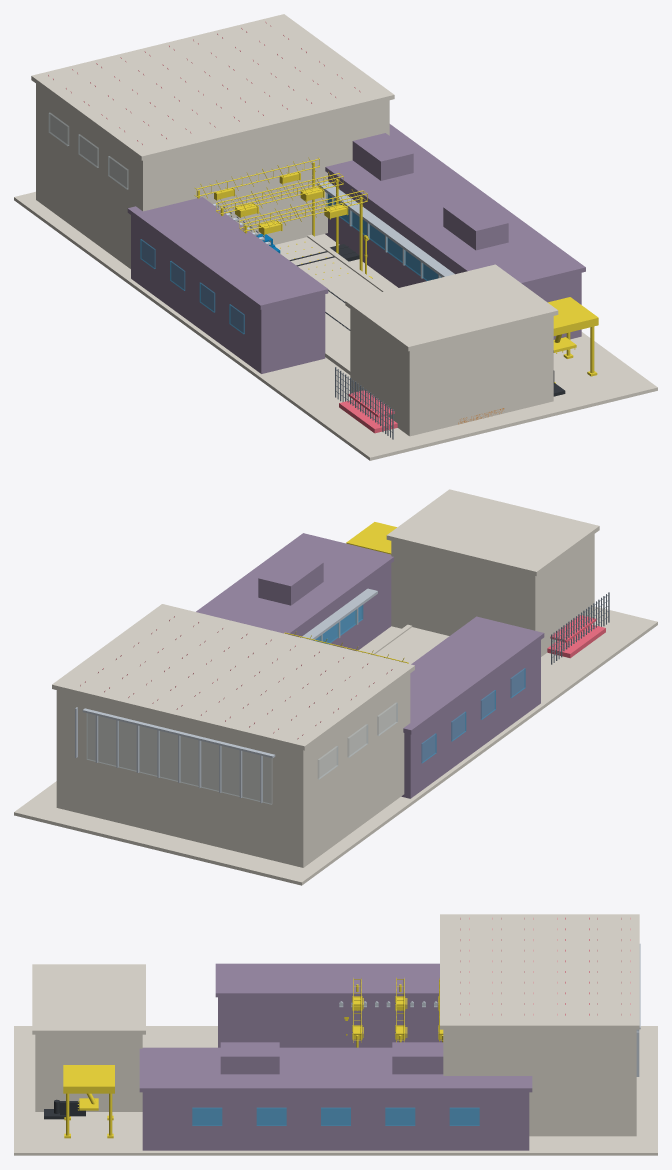
The model's file is hq_13_safety_l5.glb.
The picture shows the model from 3 angles, top to bottom: view 1: azimuth 30°, elevation 25°; view 2: azimuth 150°, elevation 25°; view 3: azimuth 270°, elevation 25°; orthographic projection. The views are drawn at different scales.
Parts seen in each view (by area): view 1: GEO_Safety_Crash_Arena_Hall_Shell, GEO_Safety_Rollover_Pit_Shell, GEO_Safety_Telemetry_Office_Halls, GEO_Safety_Dummy_Lab_Shell, GEO_Safety_Foundation_Plinth, GEO_Safety_Crash_Runway_Hall, GEO_Safety_Photogrammetry_Lighting_Truss, GEO_Safety_Observation_Mullions, GEO_Safety_Roof_Crush_Press, GEO_Safety_Observation_Glass, GEO_Safety_Observation_Curtain_Glass, GEO_Safety_Rollover_Catch_Barriers (+2 smaller); view 2: GEO_Safety_Crash_Arena_Hall_Shell, GEO_Safety_Rollover_Pit_Shell, GEO_Safety_Dummy_Lab_Shell, GEO_Safety_Telemetry_Office_Halls, GEO_Safety_Foundation_Plinth, GEO_Safety_Observation_Curtain_Glass, GEO_Safety_Arena_Mullions, GEO_Safety_Crash_Runway_Hall, GEO_Safety_Dummy_Lab_Windows, GEO_Safety_Curb_Trip_Ramp, GEO_Safety_Rollover_Catch_Barriers, GEO_Safety_Observation_Mullions (+2 smaller); view 3: GEO_Safety_Crash_Arena_Hall_Shell, GEO_Safety_Telemetry_Office_Halls, GEO_Safety_Dummy_Lab_Shell, GEO_Safety_Foundation_Plinth, GEO_Safety_Rollover_Pit_Shell, GEO_Safety_Observation_Glass, GEO_Safety_Roof_Crush_Press, GEO_Safety_Photogrammetry_Lighting_Truss, GEO_Safety_HPU_Hydraulic_Skid, GEO_Safety_Arena_Mullions.
Boxes of the visible parts, x1,y1,x2,y2 form: GEO_Safety_Crash_Arena_Hall_Shell: [31, 14, 394, 268]; GEO_Safety_Rollover_Pit_Shell: [345, 264, 558, 436]; GEO_Safety_Telemetry_Office_Halls: [325, 124, 585, 339]; GEO_Safety_Dummy_Lab_Shell: [127, 197, 328, 373]; GEO_Safety_Foundation_Plinth: [14, 191, 657, 460]; GEO_Safety_Crash_Runway_Hall: [275, 234, 537, 430]; GEO_Safety_Photogrammetry_Lighting_Truss: [194, 157, 367, 271]; GEO_Safety_Observation_Mullions: [317, 181, 454, 278]; GEO_Safety_Roof_Crush_Press: [548, 297, 598, 383]; GEO_Safety_Observation_Glass: [326, 193, 441, 280]; GEO_Safety_Observation_Curtain_Glass: [48, 112, 128, 189]; GEO_Safety_Rollover_Catch_Barriers: [335, 367, 393, 439]; GEO_Safety_Crash_Arena_Hall_Shell: [52, 604, 414, 867]; GEO_Safety_Rollover_Pit_Shell: [386, 489, 599, 656]; GEO_Safety_Dummy_Lab_Shell: [401, 616, 544, 798]; GEO_Safety_Telemetry_Office_Halls: [196, 533, 393, 651]; GEO_Safety_Foundation_Plinth: [14, 606, 657, 885]; GEO_Safety_Observation_Curtain_Glass: [86, 702, 397, 804]; GEO_Safety_Arena_Mullions: [75, 707, 275, 803]; GEO_Safety_Crash_Runway_Hall: [368, 624, 449, 664]; GEO_Safety_Dummy_Lab_Windows: [421, 668, 525, 763]; GEO_Safety_Curb_Trip_Ramp: [547, 615, 605, 658]; GEO_Safety_Rollover_Catch_Barriers: [551, 592, 609, 664]; GEO_Safety_Observation_Mullions: [301, 588, 377, 642]; GEO_Safety_Crash_Arena_Hall_Shell: [440, 914, 639, 1136]; GEO_Safety_Telemetry_Office_Halls: [139, 1042, 532, 1150]; GEO_Safety_Dummy_Lab_Shell: [215, 963, 441, 1047]; GEO_Safety_Foundation_Plinth: [14, 1026, 657, 1155]; GEO_Safety_Rollover_Pit_Shell: [32, 964, 145, 1111]; GEO_Safety_Observation_Glass: [192, 1107, 479, 1125]; GEO_Safety_Roof_Crush_Press: [63, 1065, 114, 1138]; GEO_Safety_Photogrammetry_Lighting_Truss: [352, 977, 443, 1047]; GEO_Safety_HPU_Hydraulic_Skid: [44, 1099, 85, 1119]; GEO_Safety_Arena_Mullions: [636, 943, 640, 1076].
Size of what is drawn, in the model's own units: 28 by 12.29 by 60.
